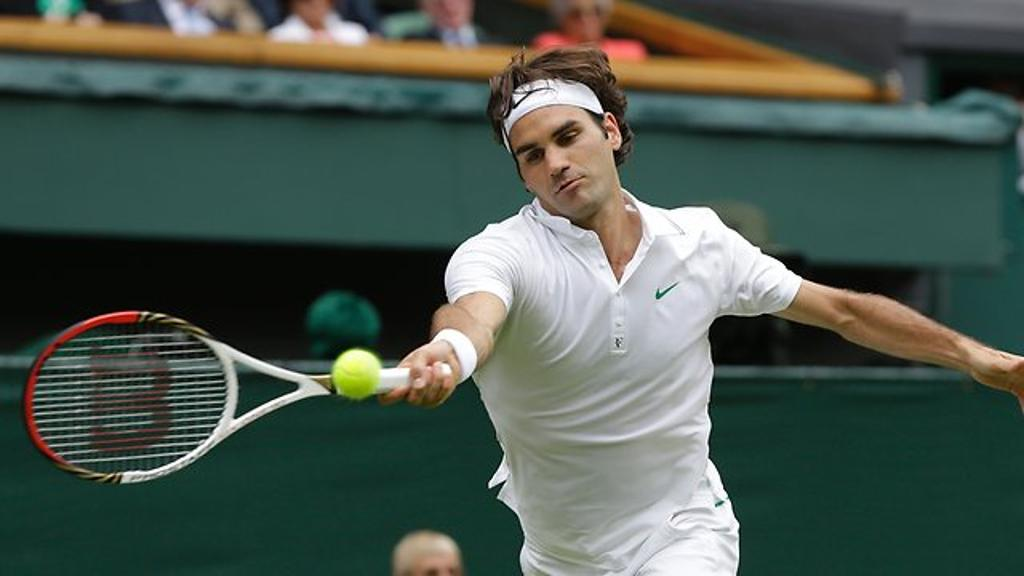face: (508, 104, 606, 208)
